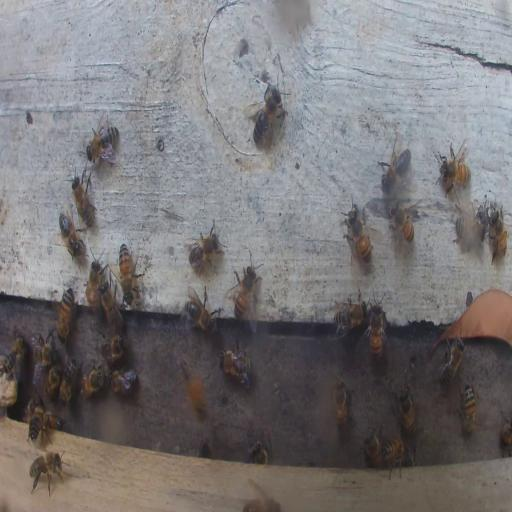bee: (247, 82, 286, 145), (185, 221, 225, 274), (342, 191, 372, 260), (230, 260, 260, 324), (377, 139, 412, 190), (86, 116, 119, 168), (28, 450, 67, 494), (437, 138, 469, 190), (184, 286, 219, 333), (179, 360, 207, 418), (70, 170, 96, 228), (57, 209, 86, 259), (387, 200, 419, 244), (332, 295, 368, 334), (218, 344, 252, 383), (381, 434, 409, 479), (488, 203, 508, 263), (368, 299, 387, 362), (395, 382, 415, 440), (440, 340, 464, 386), (456, 216, 488, 250), (456, 382, 476, 436), (27, 410, 64, 439), (100, 281, 122, 329), (333, 374, 351, 432), (108, 365, 139, 395), (118, 240, 134, 297), (1, 336, 26, 372), (56, 286, 72, 340), (81, 360, 104, 397), (60, 358, 78, 405), (86, 256, 101, 312), (32, 333, 56, 366), (364, 426, 381, 468), (102, 333, 126, 361), (245, 494, 279, 511), (45, 364, 62, 396), (249, 439, 270, 464), (500, 410, 512, 451), (22, 398, 42, 422)
